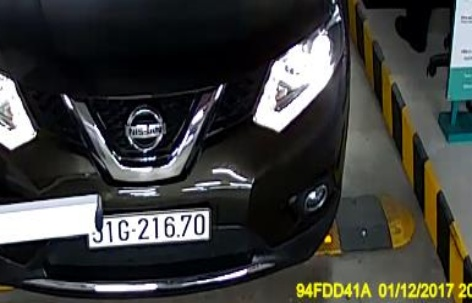plate: (90, 213, 213, 246)
